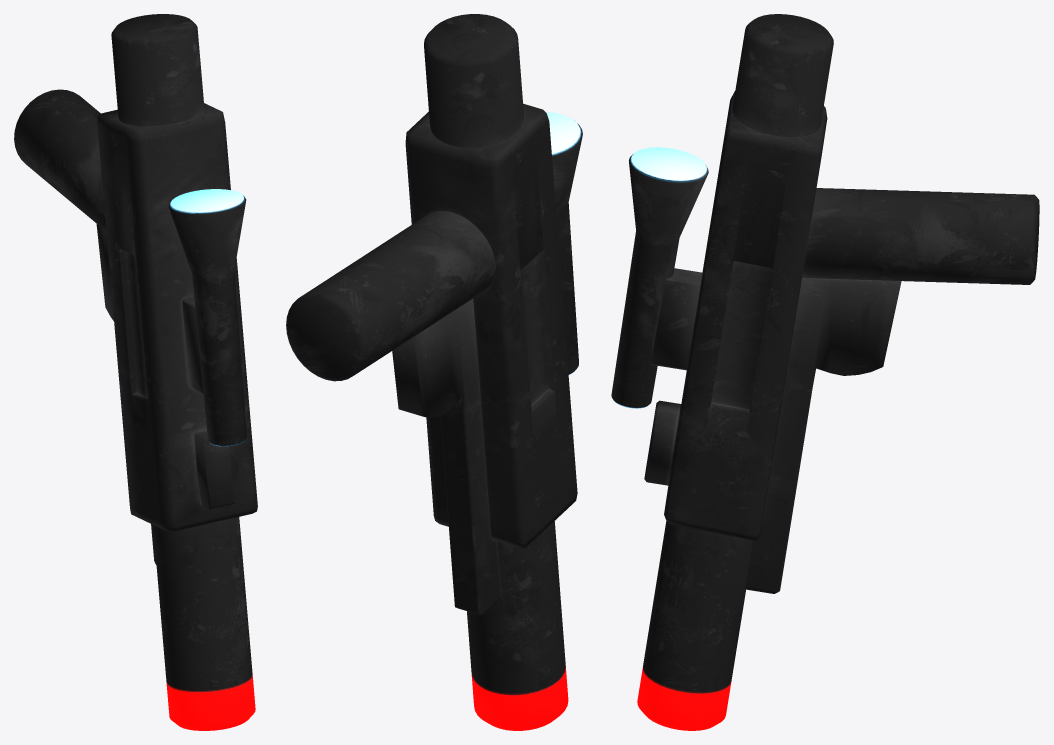
File: venomity_blaster.fbx
3 renders of one model, left to right at view 1: azimuth 30°, elevation 25°; view 2: azimuth 150°, elevation 25°; view 3: azimuth 270°, elevation 25°, orthographic. The views are drawn at different scales.
Parts seen in each view (by area): view 1: Blaster.003; view 2: Blaster.003; view 3: Blaster.003.
Part boxes in pixels (x1,y1,x2,y2): Blaster.003: (14,14,257,730); Blaster.003: (286,14,582,730); Blaster.003: (611,14,1039,730).
Bounding box in the file's own units: 352 × 2274 × 1279.
